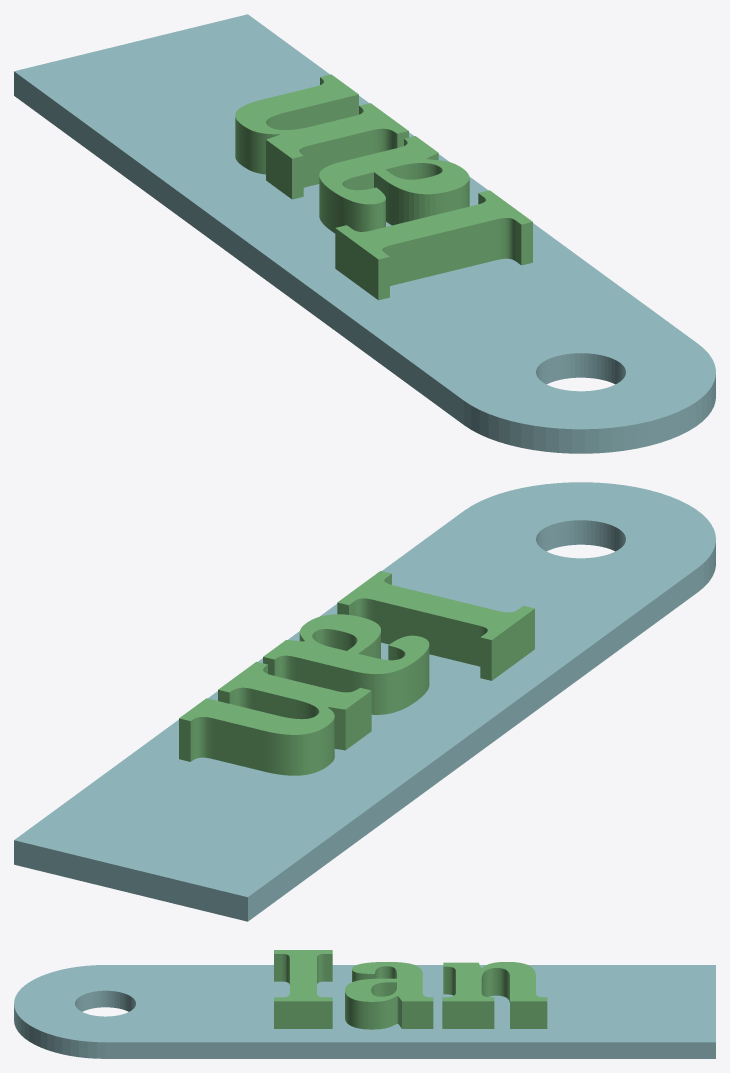
File: asset.glb
The picture shows the model from 3 angles, top to bottom: view 1: azimuth 30°, elevation 25°; view 2: azimuth 150°, elevation 25°; view 3: azimuth 270°, elevation 25°; orthographic projection. The views are drawn at different scales.
Parts seen in each view (by area): view 1: Mesh_Mesh_head_geo.001_lambert2SG.001; view 2: Mesh_Mesh_head_geo.001_lambert2SG.001; view 3: Mesh_Mesh_head_geo.001_lambert2SG.001.
Boxes of the visible parts, left/top/right/bottom form: Mesh_Mesh_head_geo.001_lambert2SG.001: left=14, top=14, right=715, bottom=453; Mesh_Mesh_head_geo.001_lambert2SG.001: left=14, top=482, right=715, bottom=921; Mesh_Mesh_head_geo.001_lambert2SG.001: left=14, top=950, right=715, bottom=1058.
Bounding box in the file's own units: 30 × 8 × 115.
